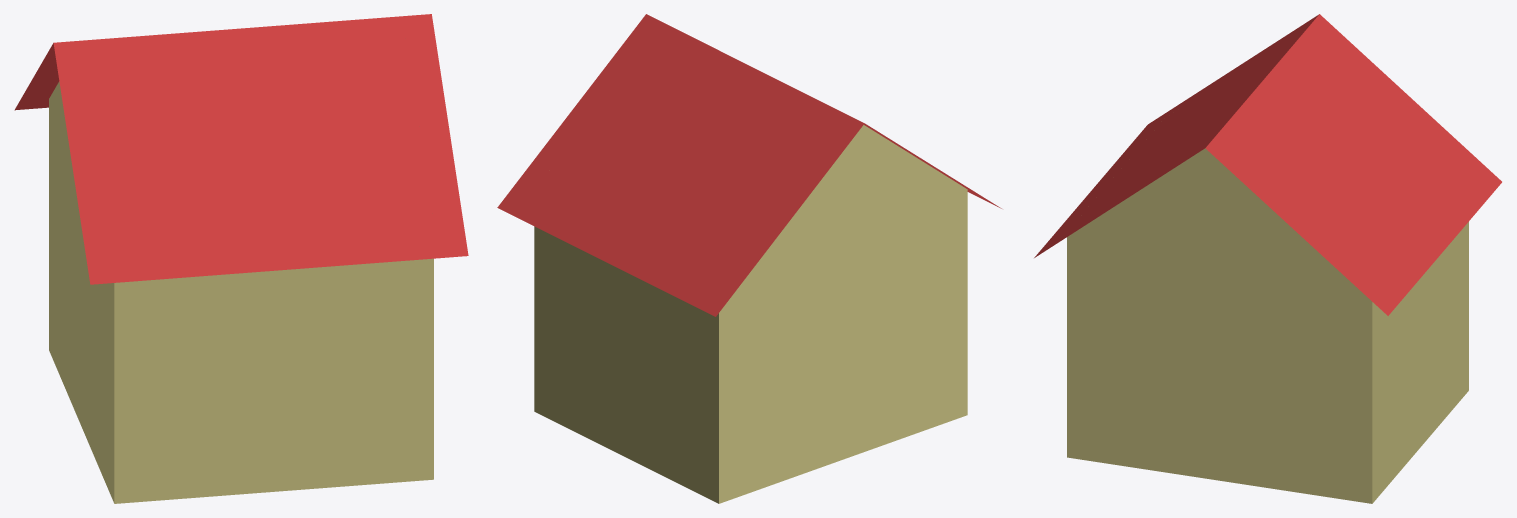
3 views of the same model, side by side, from view 1: azimuth 30°, elevation 25°; view 2: azimuth 150°, elevation 25°; view 3: azimuth 270°, elevation 25° (orthographic). The views are drawn at different scales.
Size of the model in its own units: 12.74 by 13.42 by 10.8.
